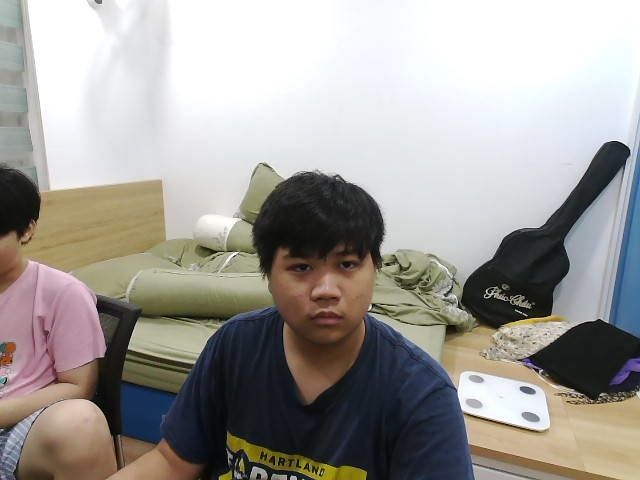face: (251, 174, 388, 345)
